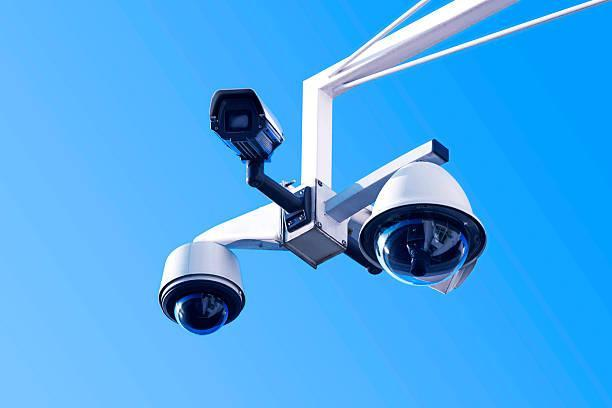camera: (346, 144, 496, 326), (144, 204, 268, 354), (187, 73, 294, 193)
